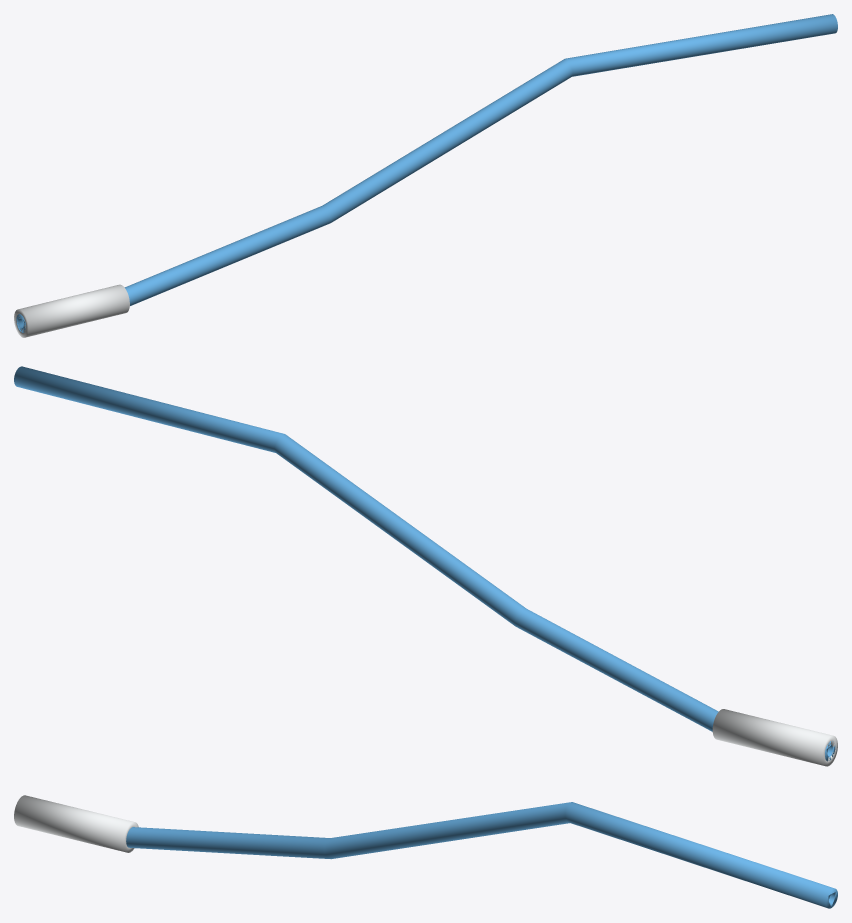
Rendered from jet-ventilation-hose-proxy-bcb7954bbd8c.glb.
3 views of the same model, one above another, from view 1: azimuth 30°, elevation 25°; view 2: azimuth 150°, elevation 25°; view 3: azimuth 330°, elevation 25° (orthographic). The views are drawn at different scales.
Visible parts, largest first — view 1: Jet_Ventilation_Hose, Jet_Ventilation_Connector; view 2: Jet_Ventilation_Hose, Jet_Ventilation_Connector; view 3: Jet_Ventilation_Hose, Jet_Ventilation_Connector.
Boxes of the visible parts, x1,y1,x2,y2 form: Jet_Ventilation_Hose: (16, 14, 837, 332); Jet_Ventilation_Connector: (14, 284, 129, 337); Jet_Ventilation_Hose: (14, 366, 835, 761); Jet_Ventilation_Connector: (712, 709, 837, 766); Jet_Ventilation_Hose: (126, 802, 837, 908); Jet_Ventilation_Connector: (14, 795, 138, 852).
Bounding box in the file's own units: 0.1852 × 0.037 × 0.018.
